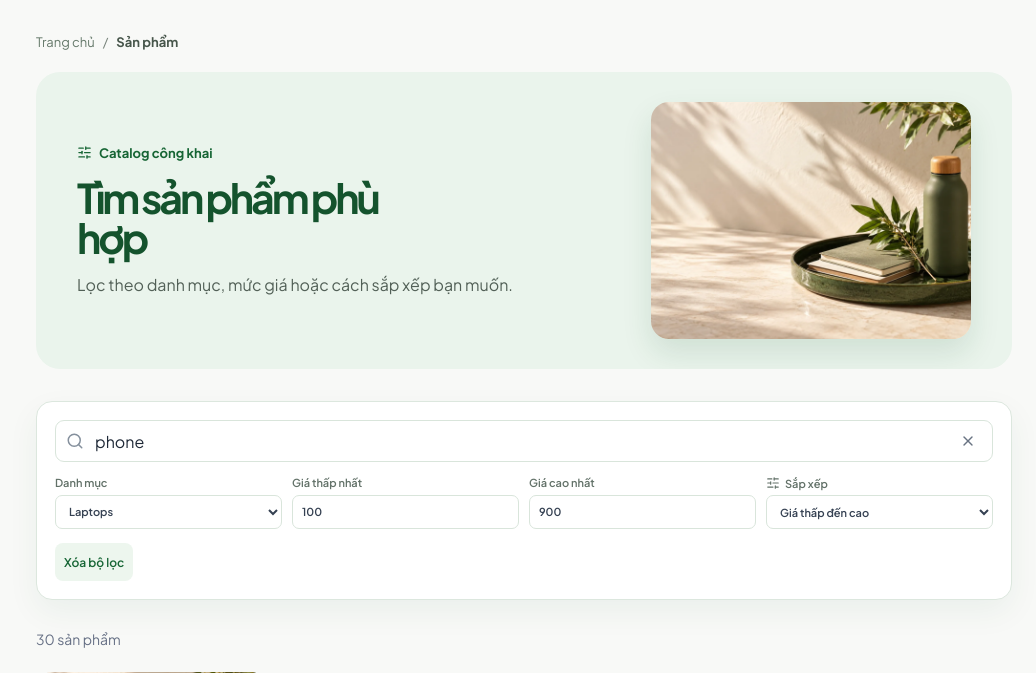
Clear filters on the storefront shop › resets search, category, price range, sort and page, and the URL matches the controls
Expected: the field with placeholder "Tìm kiếm sản phẩm" holds "phone", [93, 430, 945, 452]
Click the button "Xóa bộ lọc" at point(94, 562), box [55, 543, 133, 581]
(page scrolled)
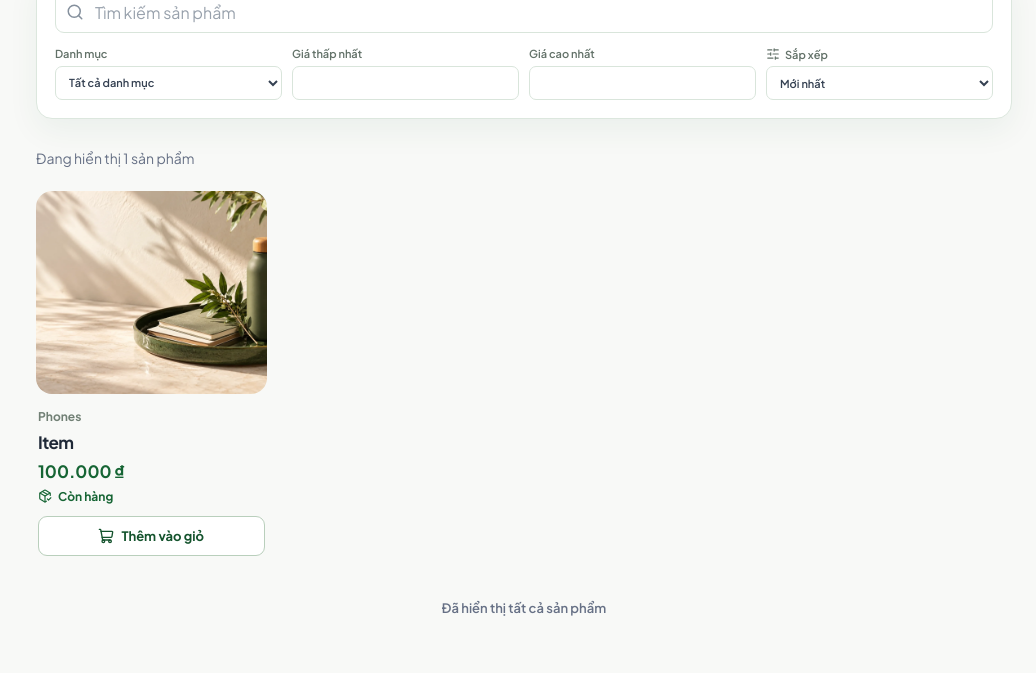
Expected: the field with placeholder "Tìm kiếm sản phẩm" is empty, [93, 0, 982, 24]
Expected: the dropdown labelled "Danh mục" shows "Tất cả danh mục", [55, 66, 282, 100]
Expected: the dropdown labelled "Sắp xếp" shows "Mới nhất", [766, 66, 993, 100]
